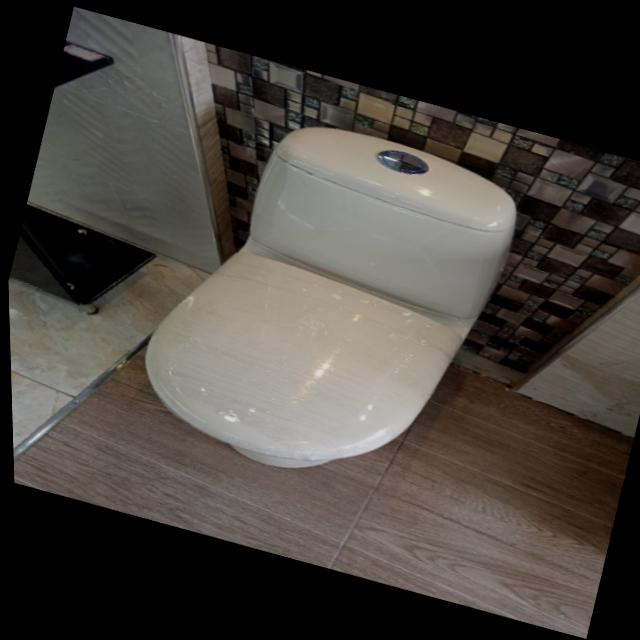toilet: (117, 89, 535, 514)
